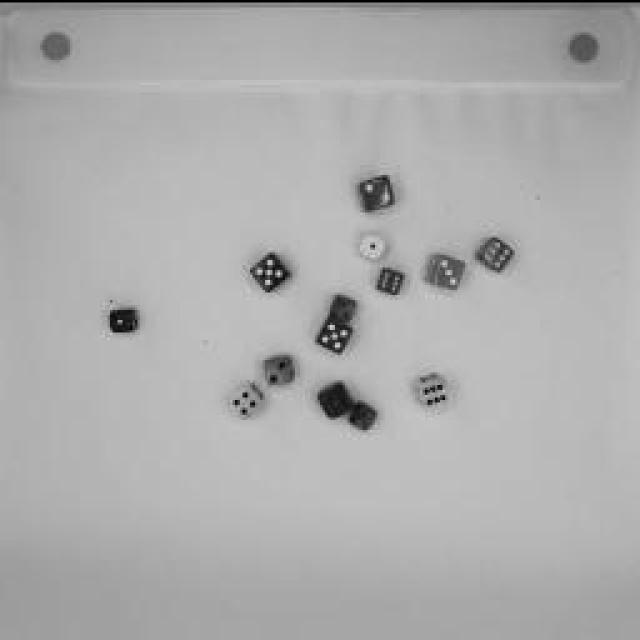dice_1: (315, 375, 355, 425), (100, 298, 148, 338), (356, 228, 392, 262)
dice_2: (354, 167, 398, 215), (260, 349, 300, 386), (348, 392, 378, 430), (328, 288, 360, 318)
dice_3: (425, 244, 470, 288)
dice_4: (221, 380, 269, 420)
dice_5: (242, 245, 296, 295), (314, 318, 358, 358)
dice_6: (474, 230, 518, 275), (415, 368, 455, 412), (369, 261, 409, 299)
